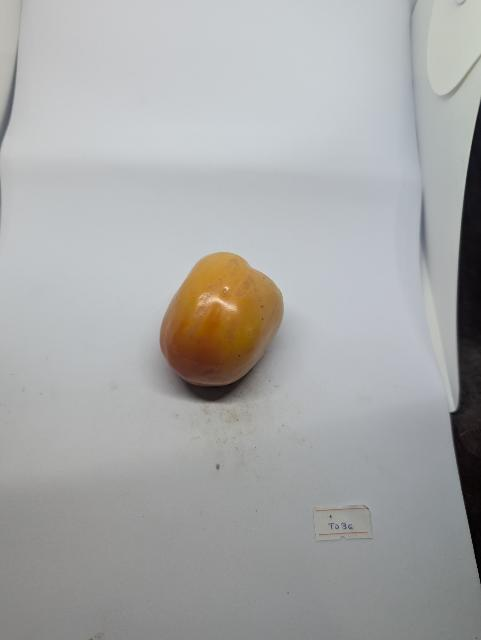turning: (154, 239, 293, 400)
